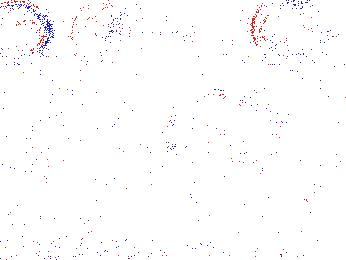moon jellyfish: (193, 88, 279, 165), (250, 1, 324, 56), (124, 106, 192, 164), (70, 1, 128, 68), (20, 75, 91, 120), (1, 1, 51, 58)
